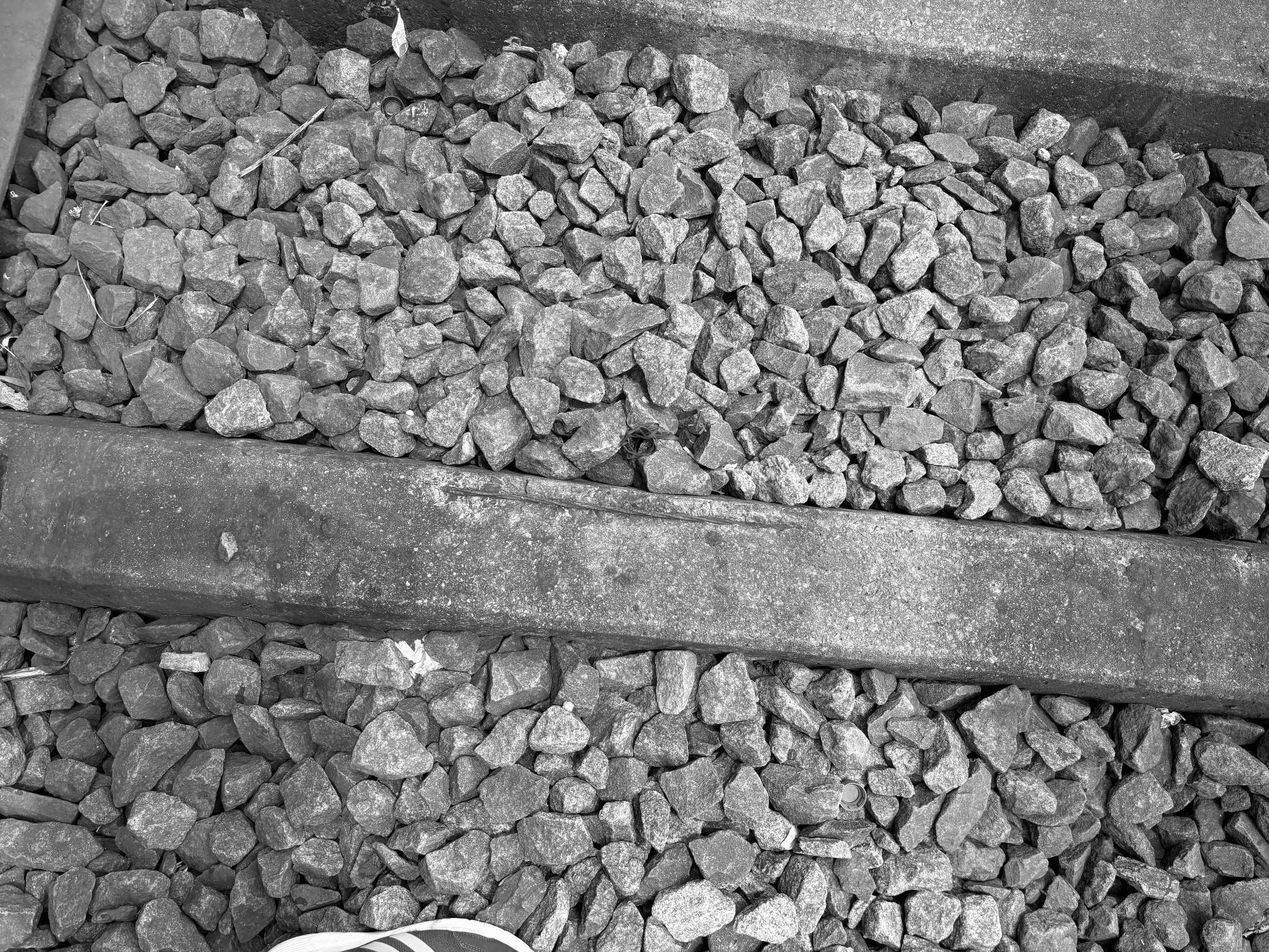cracks in midportion: (390, 464, 821, 557)
